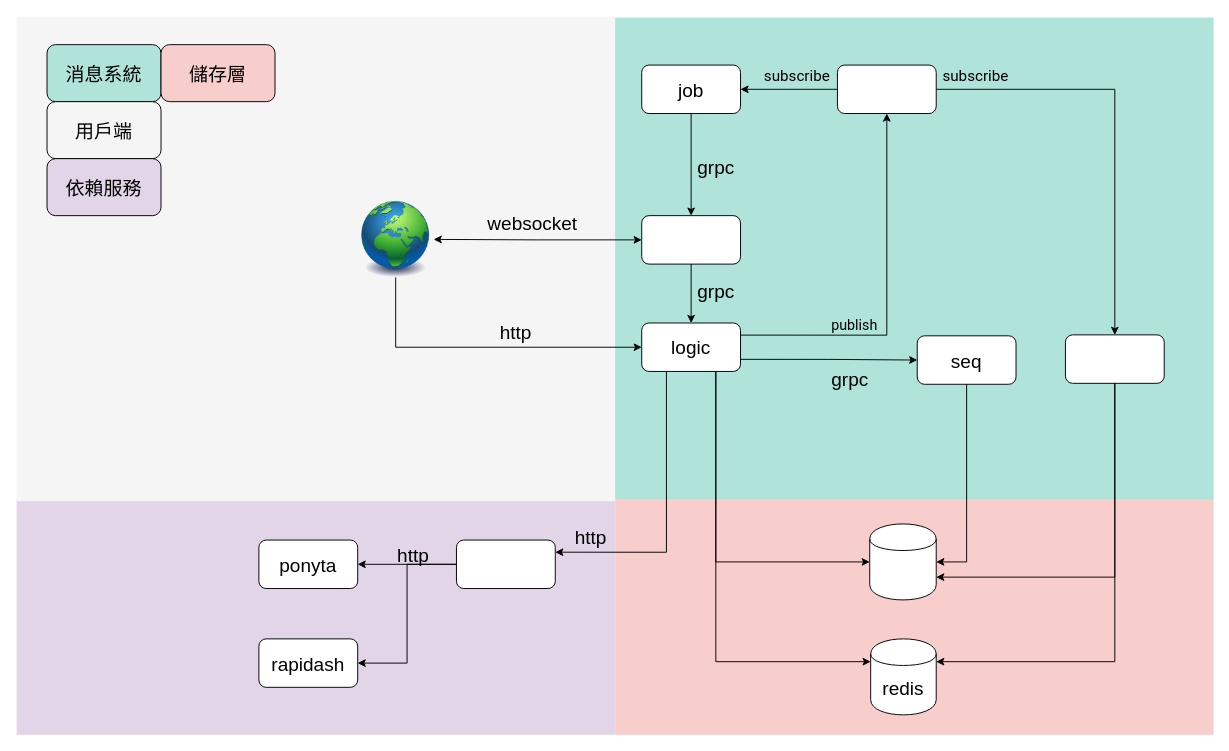
This 1229x751 diagram has some shape labels left out. The shapes that lost their labels are listed below. From the top down, each one's centre as x and y in pixels, then its label:
At (886,89): "kafka".
At (691,239): "comet".
At (1114,358): "message".
At (505,564): "nidoran".
At (902,561): "mysql".
